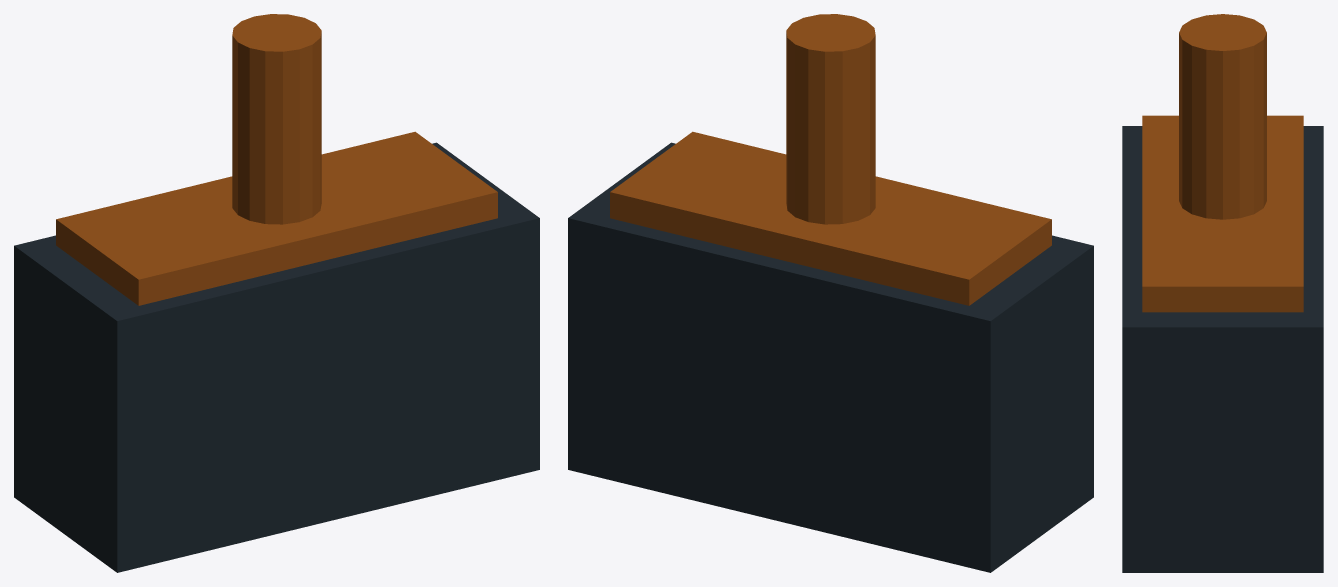
Rendered from parts_tray.obj.
The picture shows the model from 3 angles, left to right: view 1: azimuth 30°, elevation 25°; view 2: azimuth 150°, elevation 25°; view 3: azimuth 270°, elevation 25°; orthographic projection. The views are drawn at different scales.
Parts seen in each view (by area): view 1: painted_metal, brass; view 2: painted_metal, brass; view 3: painted_metal, brass.
Boxes of the visible parts, bbox=[...] form: painted_metal: bbox=[14, 142, 539, 572]; brass: bbox=[56, 14, 497, 305]; painted_metal: bbox=[568, 142, 1093, 572]; brass: bbox=[610, 14, 1051, 305]; painted_metal: bbox=[1122, 126, 1323, 572]; brass: bbox=[1142, 14, 1303, 312].
Size of the model in its own units: 1.3 by 1.33 by 0.55.
